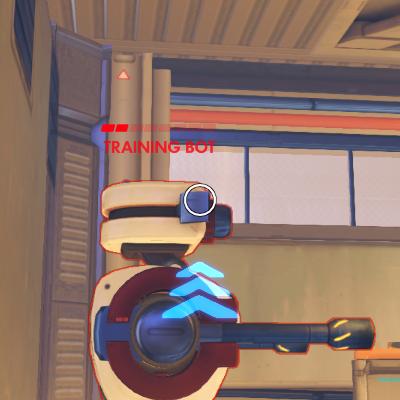hpbar: (101, 124, 216, 132)
